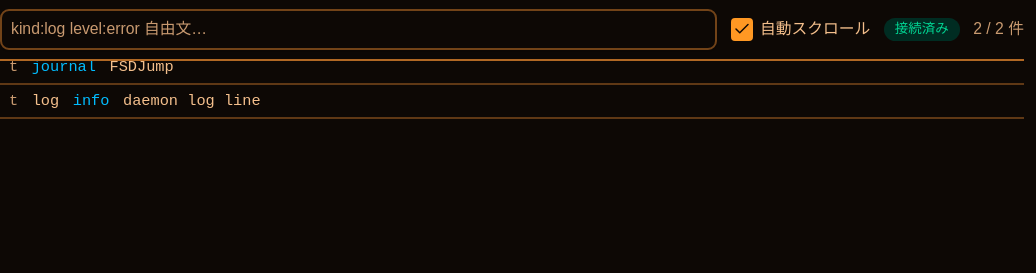
Test: committing a kind:journal query as a badge hides other kinds
Expected: the text "daemon log line" is shown, [123, 90, 261, 113]
Step 1. Type "kind:journal" into the field named "フィルタクエリ" → (359, 29), box [11, 18, 706, 40]
Then press Enter
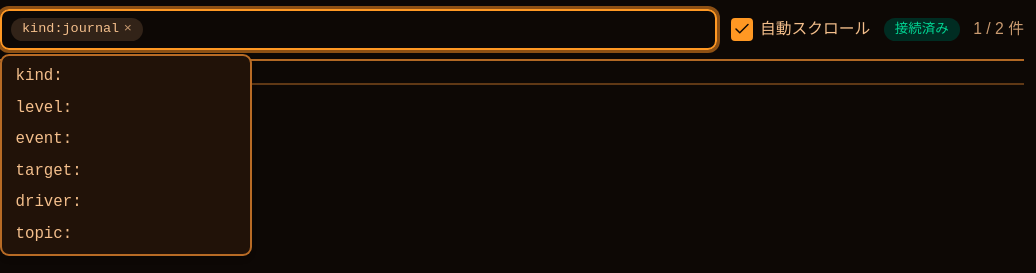
Expected: the field named "フィルタクエリ" is empty, [147, 18, 706, 40]
Result: the text "kind:journal" is shown at [22, 21, 119, 36]
Result: the text "daemon log line" is gone
